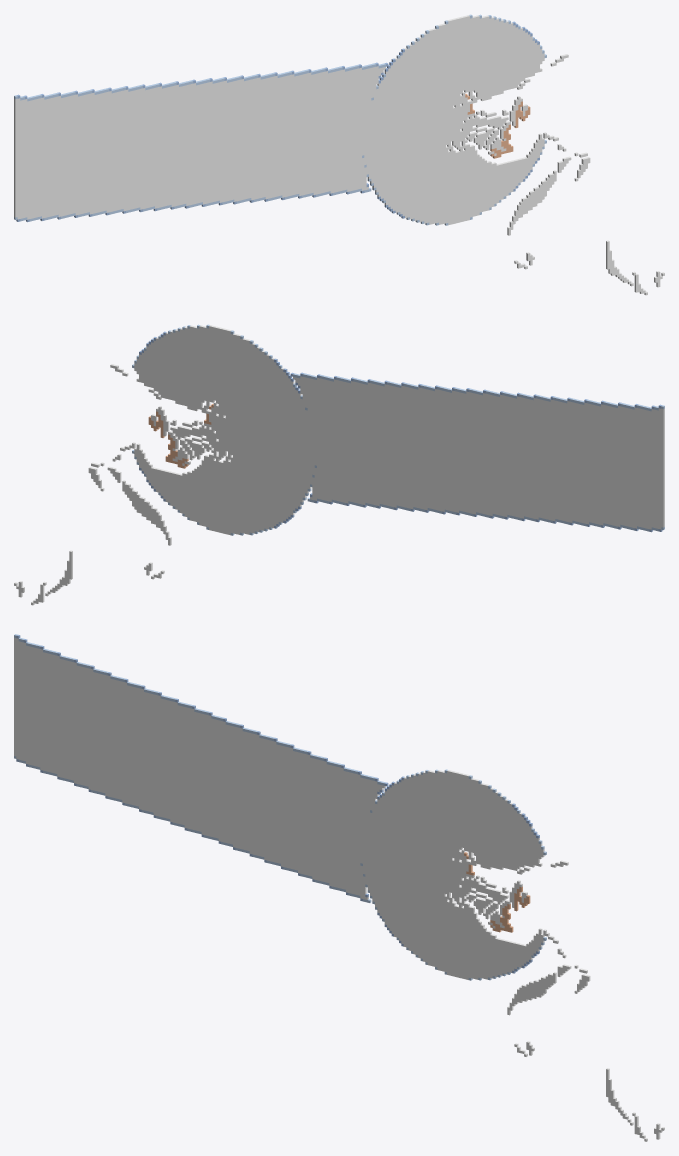
Rendered from Fight_028_2_13_fx.obj.
The picture shows the model from 3 angles, top to bottom: view 1: azimuth 30°, elevation 25°; view 2: azimuth 150°, elevation 25°; view 3: azimuth 330°, elevation 25°; orthographic projection.
Bounding box in the file's own units: 27 × 14 × 0.1.
